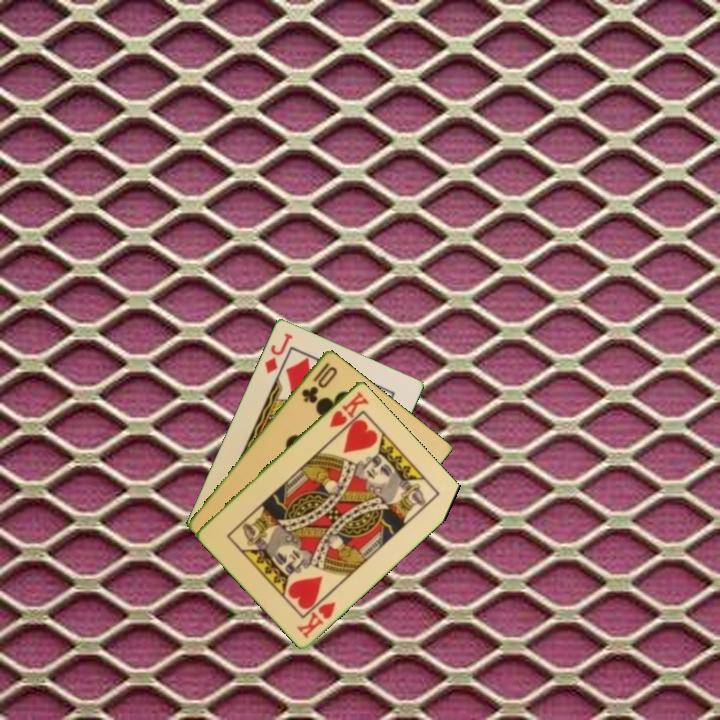10c: (298, 358, 340, 406)
Jd: (261, 329, 296, 376)
Kh: (325, 387, 371, 430), (293, 598, 339, 641)
